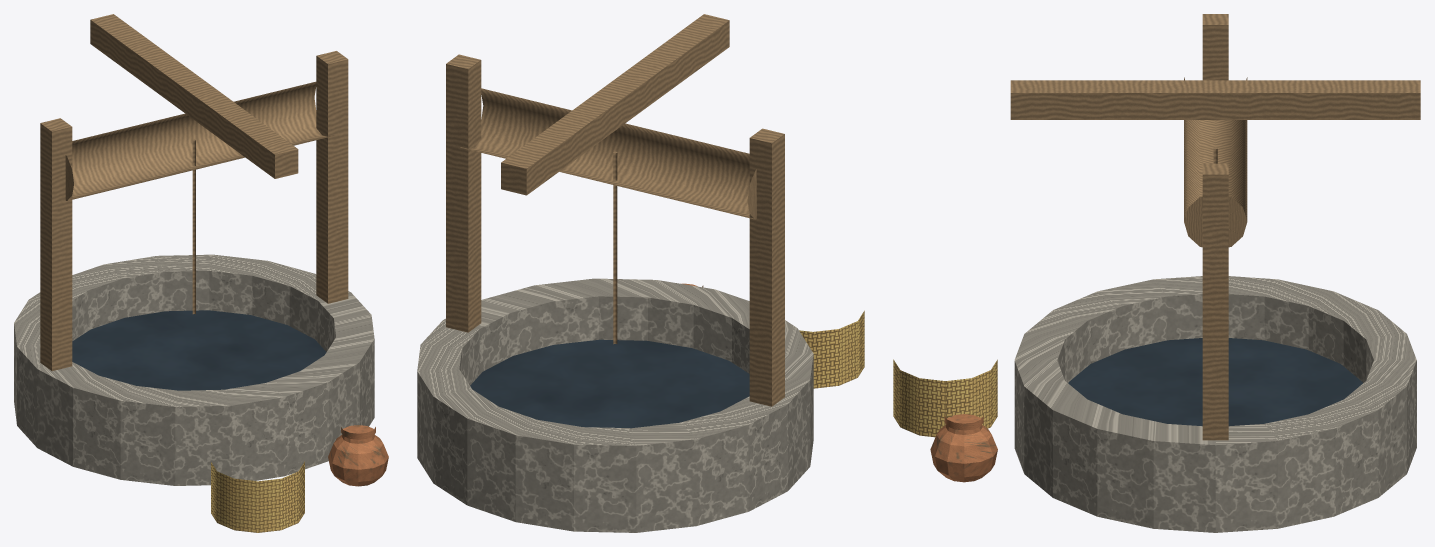
File: well.gltf
The picture shows the model from 3 angles, left to right: view 1: azimuth 30°, elevation 25°; view 2: azimuth 150°, elevation 25°; view 3: azimuth 270°, elevation 25°; orthographic projection. The views are drawn at different scales.
Visible parts, largest first — view 1: Well; view 2: Well; view 3: Well.
Part boxes in pixels (left/top/right/bottom): Well: left=14, top=14, right=388, bottom=532; Well: left=417, top=14, right=864, bottom=532; Well: left=893, top=14, right=1420, bottom=532.
Bounding box in the file's own units: 2.16 × 2.14 × 2.83.
Materials: 5 (5 with a texture image).
